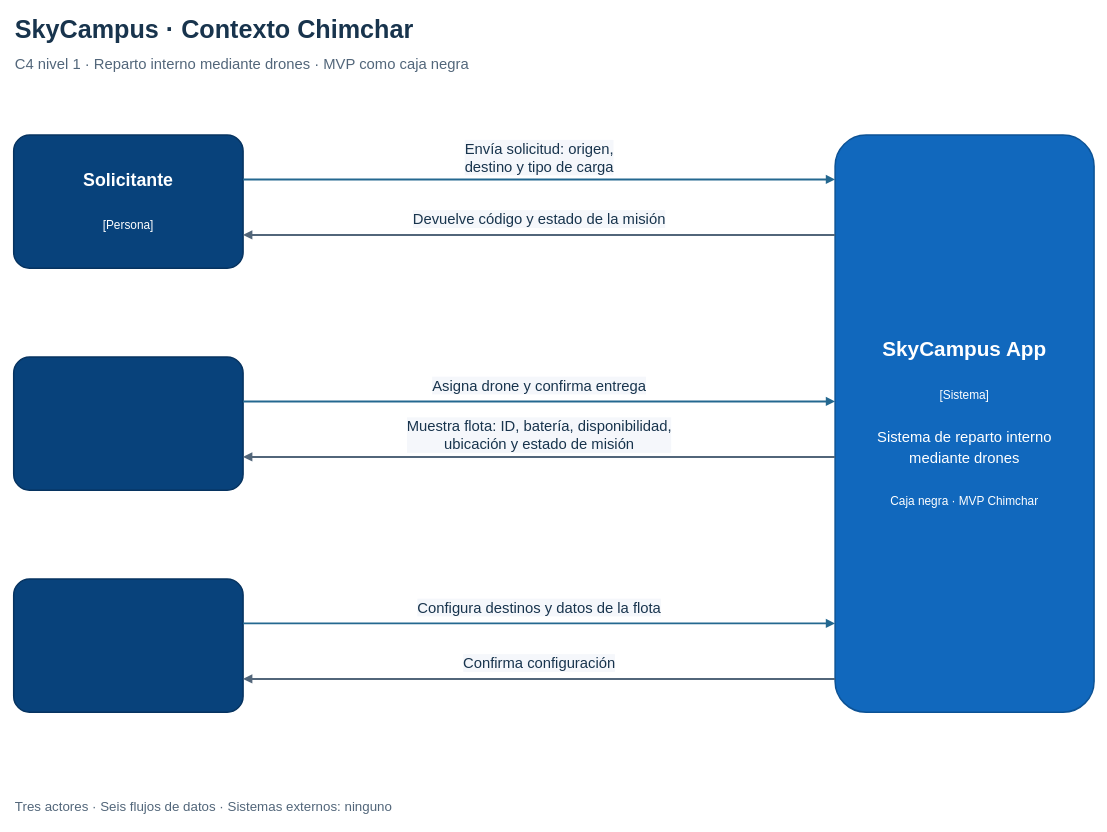
This 1107x832 diagram has some shape labels left out. The centre of each missing label's shape, as x and y in pixels:
Admin [Persona]: point (128, 645)
Operador de drones [Persona]: point (128, 423)
